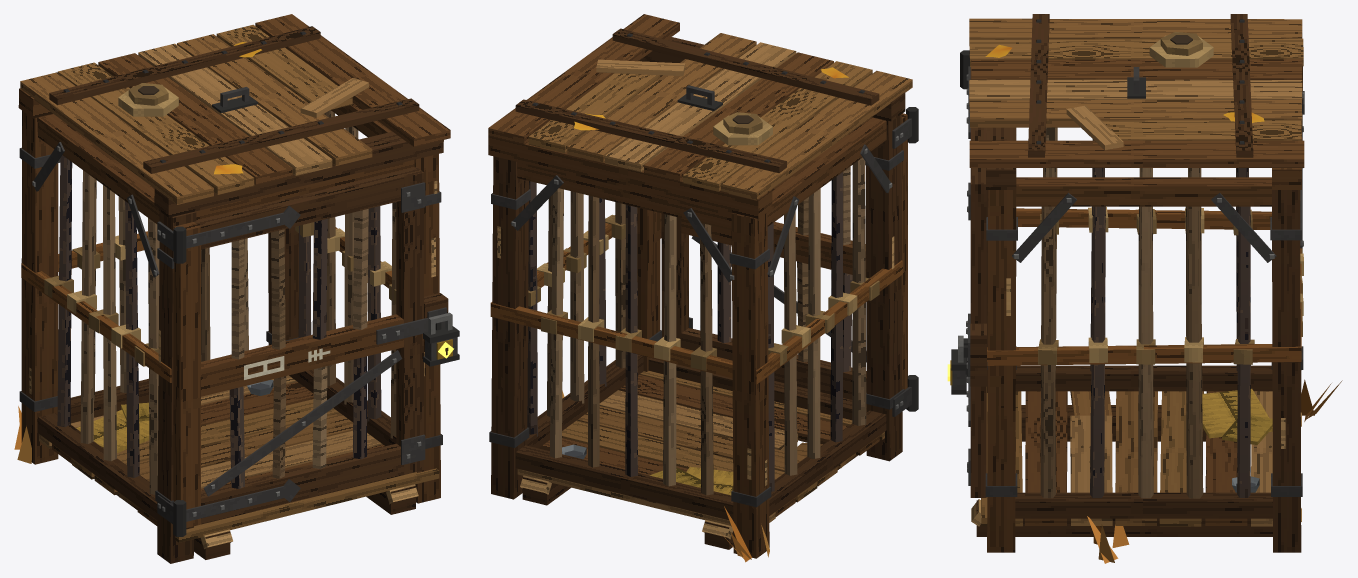
File: fp_cage.glb
3 renders of one model, left to right at view 1: azimuth 30°, elevation 25°; view 2: azimuth 150°, elevation 25°; view 3: azimuth 270°, elevation 25°, orthographic. The views are drawn at different scales.
Parts seen in each view (by area): view 1: fp_cage, door, glow_lock; view 2: fp_cage, door, deco_grass; view 3: fp_cage, door, deco_grass, glow_lock.
Part boxes in pixels (box(x1,y1,x2,y2)): fp_cage: box(18, 14, 450, 563); door: box(173, 167, 428, 536); glow_lock: box(423, 312, 459, 366); fp_cage: box(488, 14, 912, 558); door: box(661, 107, 918, 411); deco_grass: box(562, 390, 769, 562); fp_cage: box(963, 14, 1304, 552); door: box(960, 50, 986, 497); deco_grass: box(1087, 379, 1342, 563); glow_lock: box(947, 335, 966, 394).
Bounding box in the file's own units: 1.96 × 2.41 × 2.11.
31 materials, 21 textured.
